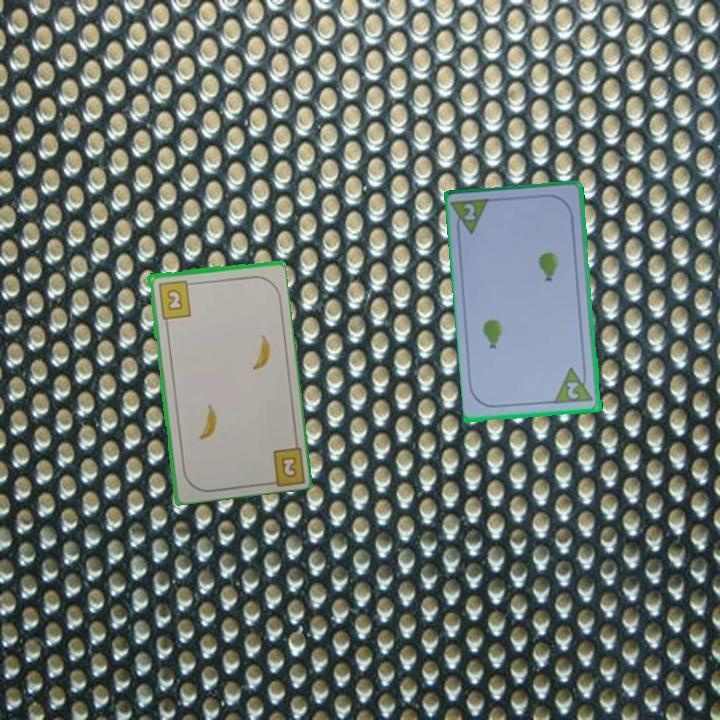2b: (154, 276, 196, 321), (277, 452, 300, 481)
2p: (449, 195, 494, 239), (552, 364, 596, 407)
